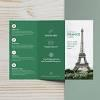paper: (8, 19, 95, 84)
